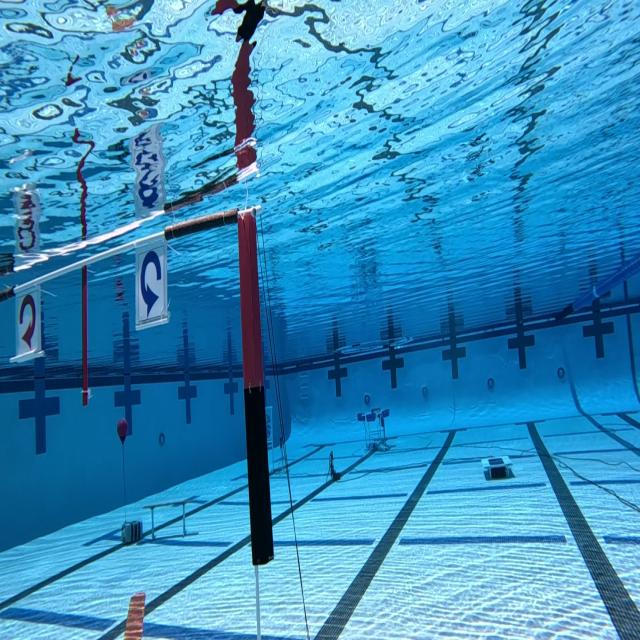blue_side: (134, 238, 170, 332)
red_side: (13, 284, 45, 362)
